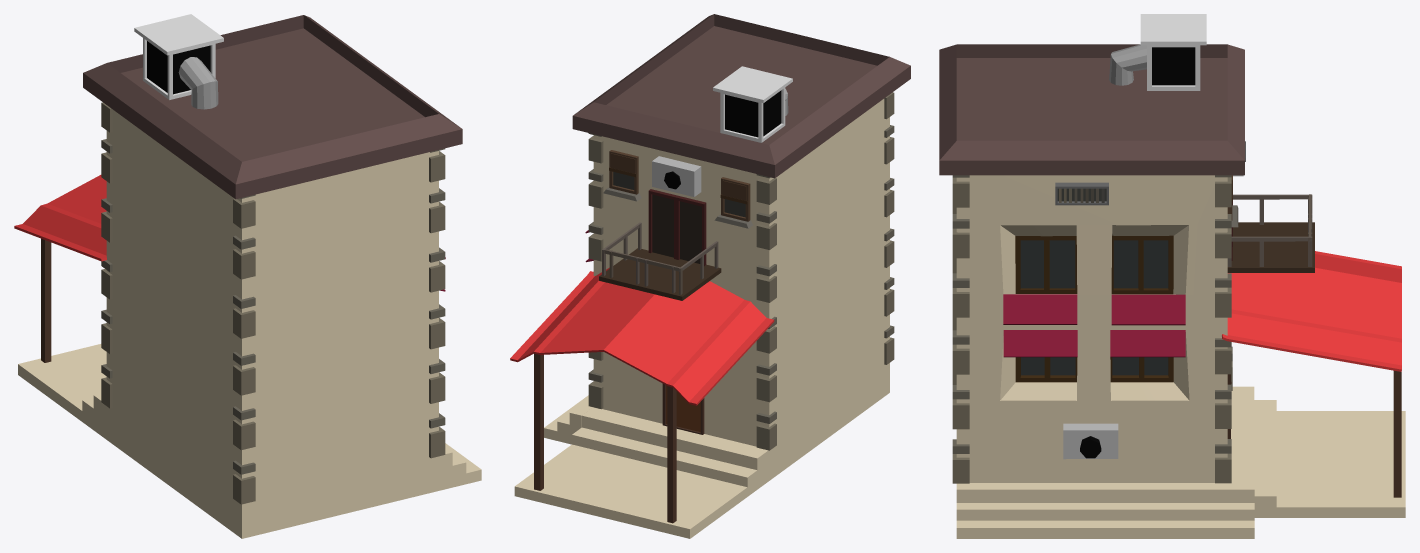
Rendered from house3_flipped.fbx.
3 views of the same model, side by side, from view 1: azimuth 30°, elevation 25°; view 2: azimuth 150°, elevation 25°; view 3: azimuth 270°, elevation 25° (orthographic). The views are drawn at different scales.
Parts seen in each view (by area): view 1: Cube.008, decor, Cube.012; view 2: Cube.008, decor, Cube.296, Cube.298, Cube.299, Cube.303, Cube.297, Cube.295, Cube.287; view 3: Cube.008, decor, Cube.296, Cube.307, Cube.303, Cube.363, Cube.012.
Part boxes in pixels (x1,y1,x2,y2): Cube.008: [14, 14, 481, 538]; decor: [101, 102, 445, 504]; Cube.012: [178, 57, 218, 109]; Cube.008: [510, 14, 910, 538]; decor: [588, 92, 894, 450]; Cube.296: [599, 248, 721, 300]; Cube.298: [676, 196, 706, 266]; Cube.299: [648, 189, 678, 259]; Cube.303: [602, 222, 718, 294]; Cube.297: [652, 156, 701, 196]; Cube.295: [609, 150, 638, 194]; Cube.287: [721, 177, 750, 221]; Cube.008: [939, 14, 1405, 538]; decor: [952, 175, 1232, 483]; Cube.296: [1227, 222, 1314, 272]; Cube.307: [1063, 423, 1118, 459]; Cube.303: [1227, 194, 1312, 266]; Cube.363: [1055, 182, 1108, 205]; Cube.012: [1109, 44, 1146, 85].
Size of the model in its own units: 637 by 993 by 1007.
